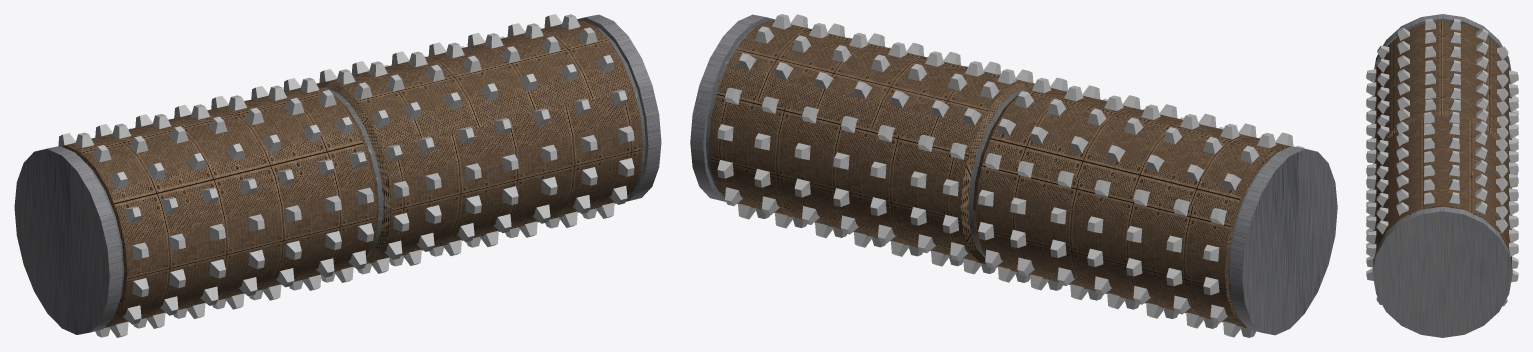
File: trash_grinder.glb
3 renders of one model, left to right at view 1: azimuth 30°, elevation 25°; view 2: azimuth 150°, elevation 25°; view 3: azimuth 270°, elevation 25°, orthographic. The views are drawn at different scales.
Parts seen in each view (by area): view 1: TrashGrinder; view 2: TrashGrinder; view 3: TrashGrinder.
Part boxes in pixels (x1=…): TrashGrinder: x1=14, y1=14, x2=661, y2=337; TrashGrinder: x1=690, y1=14, x2=1337, y2=337; TrashGrinder: x1=1366, y1=14, x2=1518, y2=337.
Bounding box in the file's own units: 251 × 82.34 × 82.04.
4 materials, 4 textured.
